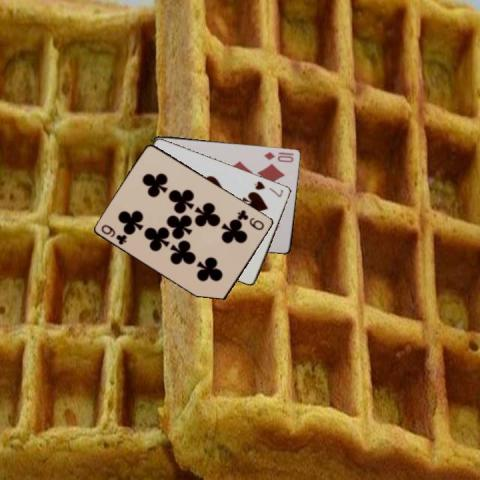10d: (261, 149, 295, 164)
7s: (251, 178, 285, 199)
9c: (98, 221, 129, 246), (235, 207, 266, 231)
